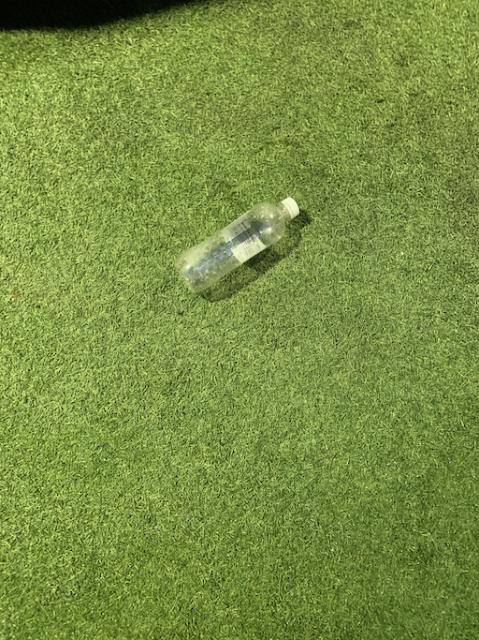plastic: (174, 197, 298, 290)
